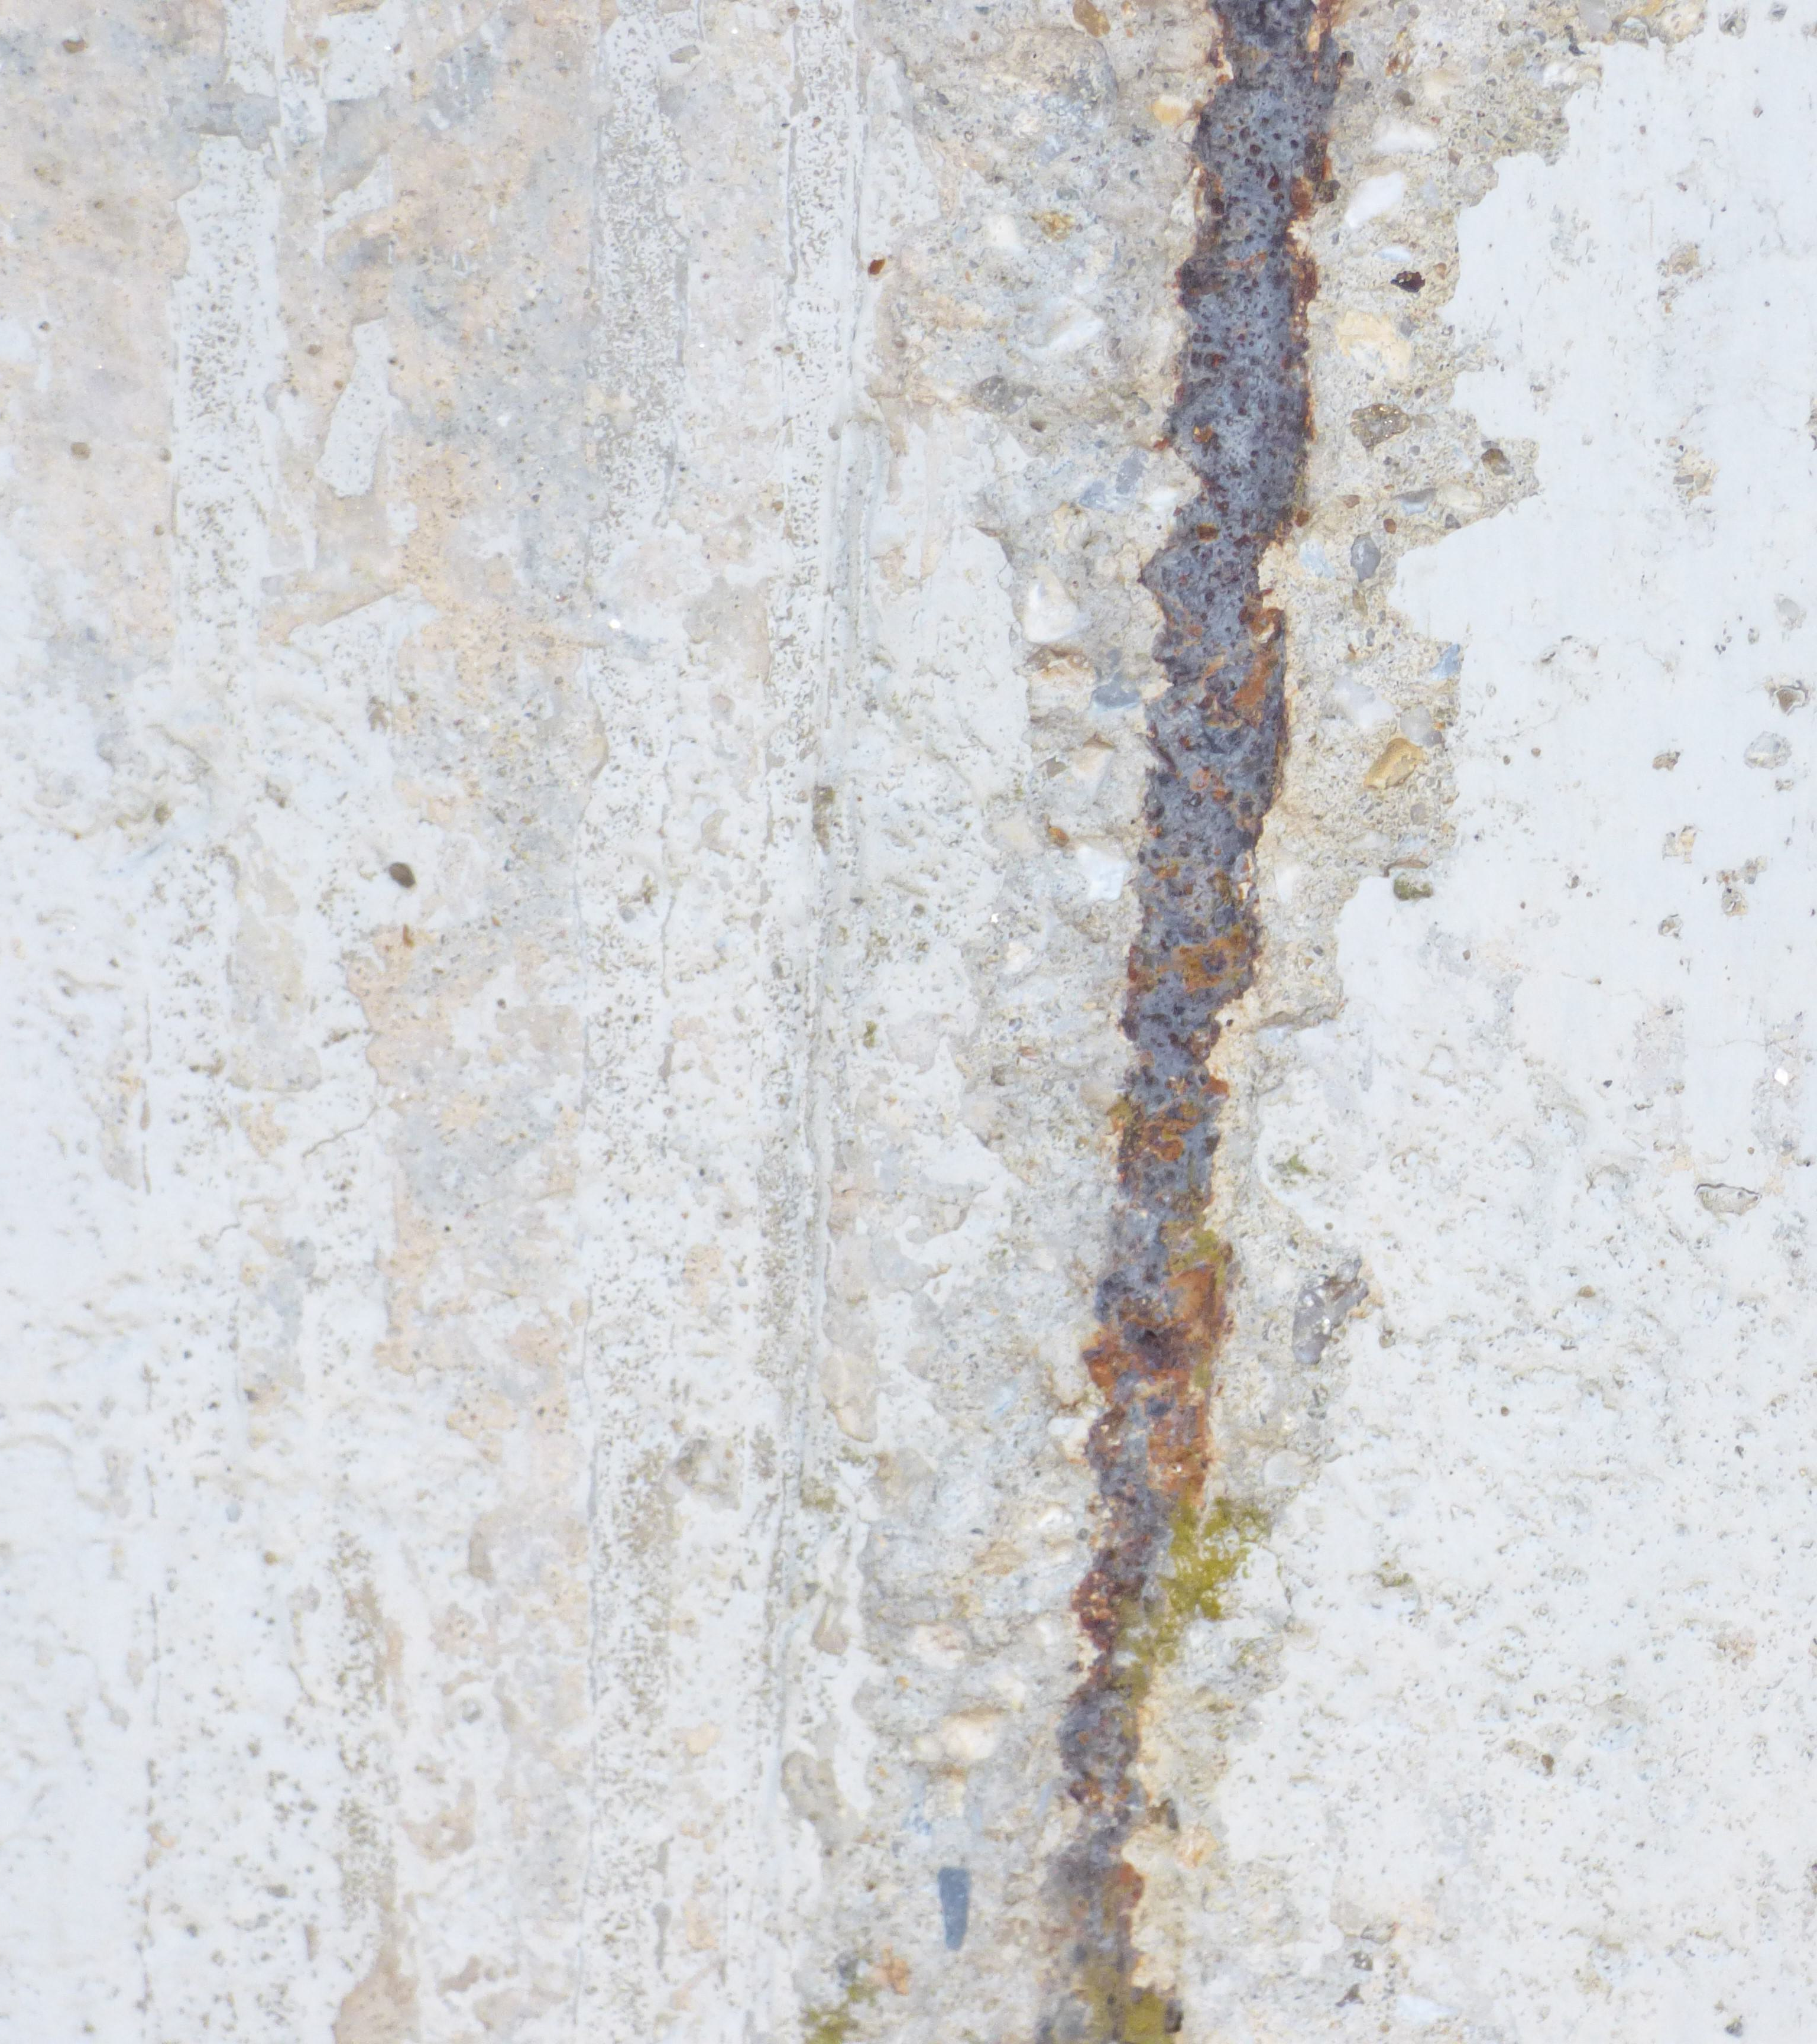Exposed reinforcement: (1042, 0, 1343, 2044)
Spalling: (780, 0, 1673, 2044)
